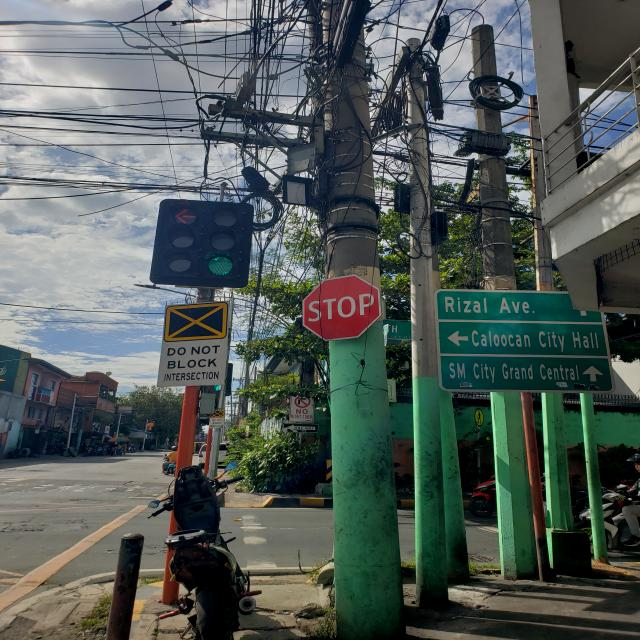stop-sign: (303, 274, 382, 341)
